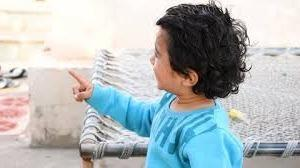Human: (67, 5, 261, 168)
